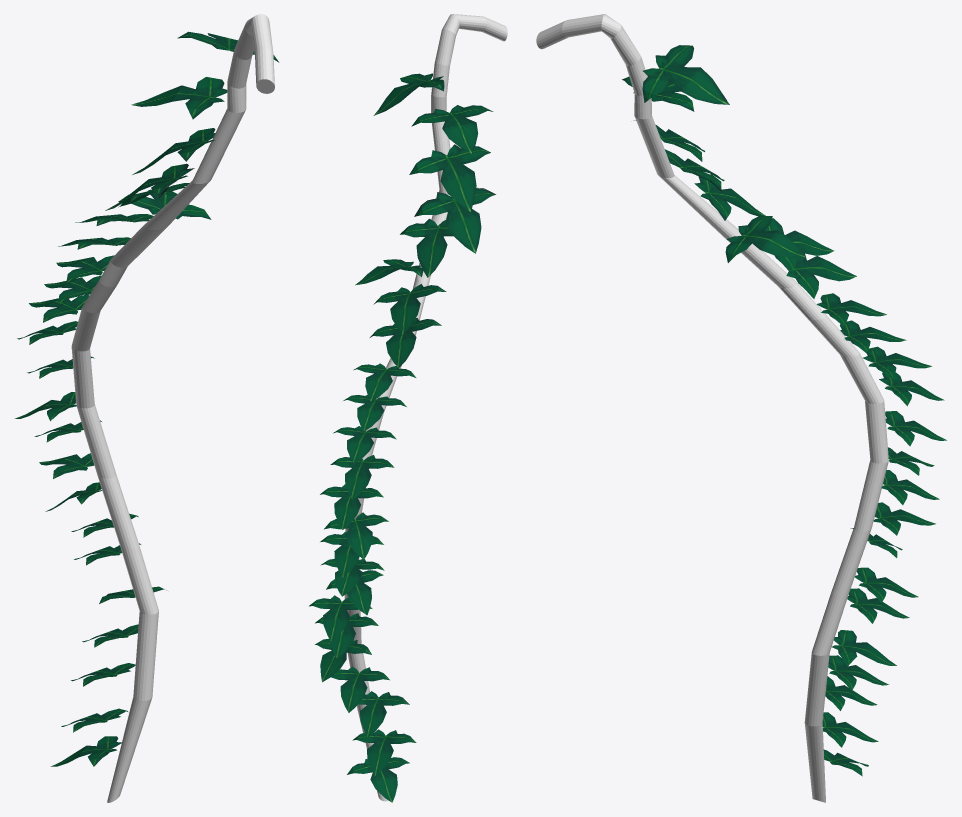
File: hangVine3.fbx
3 views of the same model, side by side, from view 1: azimuth 30°, elevation 25°; view 2: azimuth 150°, elevation 25°; view 3: azimuth 270°, elevation 25° (orthographic). The views are drawn at different scales.
Parts seen in each view (by area): view 1: leaf2 ORIGINAL.100; view 2: leaf2 ORIGINAL.100; view 3: leaf2 ORIGINAL.100.
Boxes of the visible parts, left/top/right/bottom form: leaf2 ORIGINAL.100: left=14, top=14, right=279, bottom=802; leaf2 ORIGINAL.100: left=309, top=14, right=507, bottom=802; leaf2 ORIGINAL.100: left=536, top=14, right=946, bottom=802.
Size of the model in its own units: 16.01 by 99.88 by 46.32.
